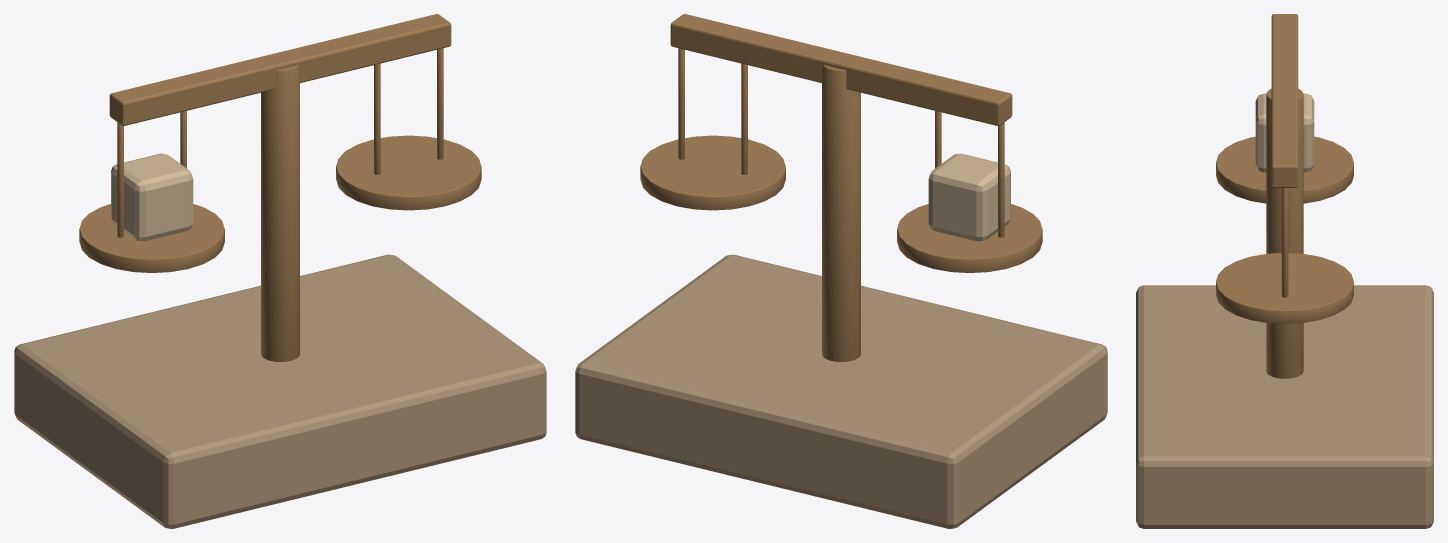
Rendered from stone-scale.glb.
The picture shows the model from 3 angles, left to right: view 1: azimuth 30°, elevation 25°; view 2: azimuth 150°, elevation 25°; view 3: azimuth 270°, elevation 25°; orthographic projection. The views are drawn at different scales.
Visible parts, largest first — view 1: Scale platform, Balance arm, Stand, Weighing pan.001, Weighing pan, Sample, Suspension, Suspension.002, Suspension.003; view 2: Scale platform, Balance arm, Stand, Weighing pan.001, Weighing pan, Sample, Suspension, Suspension.002, Suspension.003; view 3: Scale platform, Weighing pan.001, Stand, Balance arm, Weighing pan, Sample, Suspension.003.
Part boxes in pixels (box(x1,y1,x2,y2)): Scale platform: box(14, 254, 546, 528); Balance arm: box(109, 14, 451, 125); Stand: box(261, 65, 299, 361); Weighing pan.001: box(336, 135, 481, 210); Weighing pan: box(79, 204, 224, 272); Sample: box(111, 153, 193, 241); Suspension: box(117, 122, 123, 237); Suspension.002: box(374, 63, 380, 174); Suspension.003: box(437, 48, 443, 159); Scale platform: box(575, 254, 1107, 528); Balance arm: box(670, 14, 1012, 125); Stand: box(822, 65, 860, 361); Weighing pan.001: box(640, 135, 785, 210); Weighing pan: box(897, 204, 1042, 272); Sample: box(928, 153, 1010, 241); Suspension: box(998, 122, 1004, 237); Suspension.002: box(741, 63, 747, 174); Suspension.003: box(678, 48, 684, 159); Scale platform: box(1136, 285, 1433, 528); Weighing pan.001: box(1216, 253, 1353, 323); Stand: box(1266, 89, 1303, 378); Balance arm: box(1271, 14, 1298, 187); Weighing pan: box(1216, 136, 1353, 203); Sample: box(1255, 93, 1314, 172); Suspension.003: box(1281, 188, 1288, 297).
Size of the model in its own units: 1.58 by 1.47 by 1.12.
